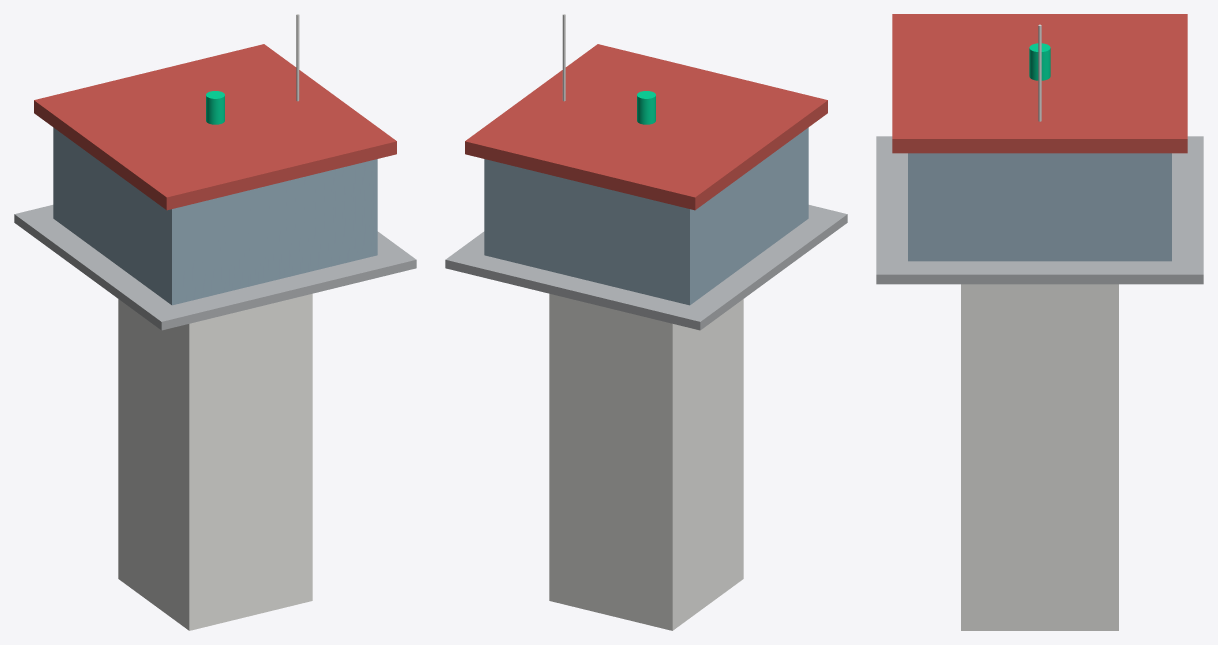
Rendered from control_tower.glb.
3 renders of one model, left to right at view 1: azimuth 30°, elevation 25°; view 2: azimuth 150°, elevation 25°; view 3: azimuth 270°, elevation 25°, orthographic. The views are drawn at different scales.
Visible parts, largest first — view 1: shaft, roof, cab, catwalk, beacon; view 2: shaft, roof, cab, catwalk, beacon; view 3: shaft, roof, cab, catwalk, beacon.
Boxes of the visible parts, x1=… form: shaft: x1=118, y1=293, x2=312, y2=630; roof: x1=34, y1=44, x2=396, y2=210; cab: x1=53, y1=127, x2=377, y2=305; catwalk: x1=14, y1=205, x2=416, y2=330; beacon: x1=206, y1=91, x2=224, y2=124; shaft: x1=549, y1=293, x2=743, y2=630; roof: x1=465, y1=44, x2=827, y2=210; cab: x1=484, y1=127, x2=808, y2=305; catwalk: x1=445, y1=205, x2=847, y2=330; beacon: x1=637, y1=91, x2=655, y2=124; shaft: x1=961, y1=284, x2=1118, y2=630; roof: x1=892, y1=14, x2=1187, y2=153; cab: x1=908, y1=153, x2=1171, y2=261; catwalk: x1=876, y1=136, x2=1203, y2=284; beacon: x1=1029, y1=43, x2=1050, y2=80.
Bounding box in the file's own units: 6.2 × 12.9 × 6.2.
